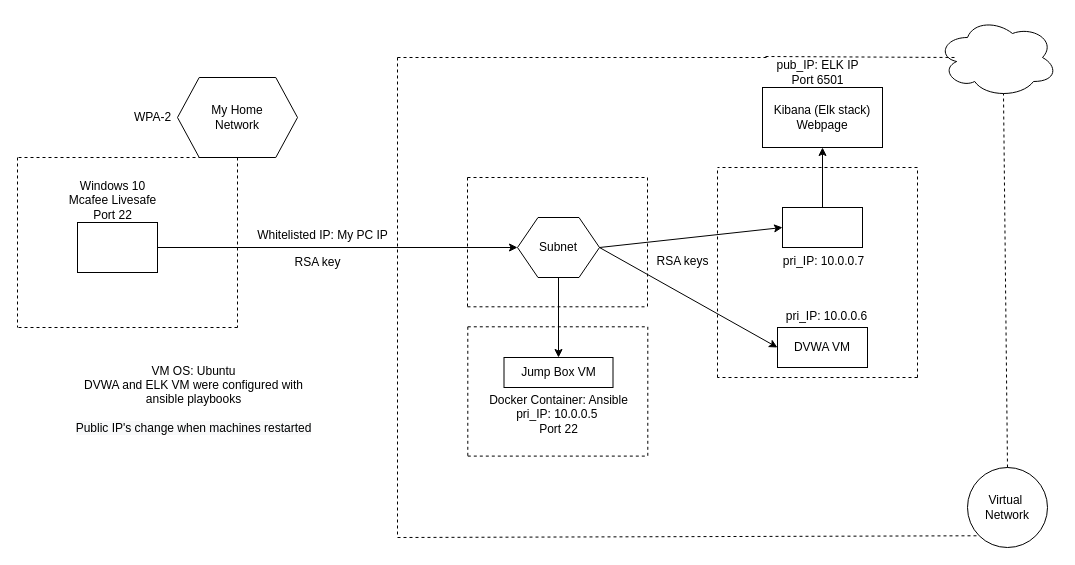
Some shapes in this 1075 by 565 pixel diagram are drawn without their labels. The box of each missing label's shape, as (x1, y1, x2, y2) in pixels:
Azure Network: (936, 16, 1058, 98)
ELK VM: (782, 206, 862, 248)
My PC: (76, 222, 158, 272)
